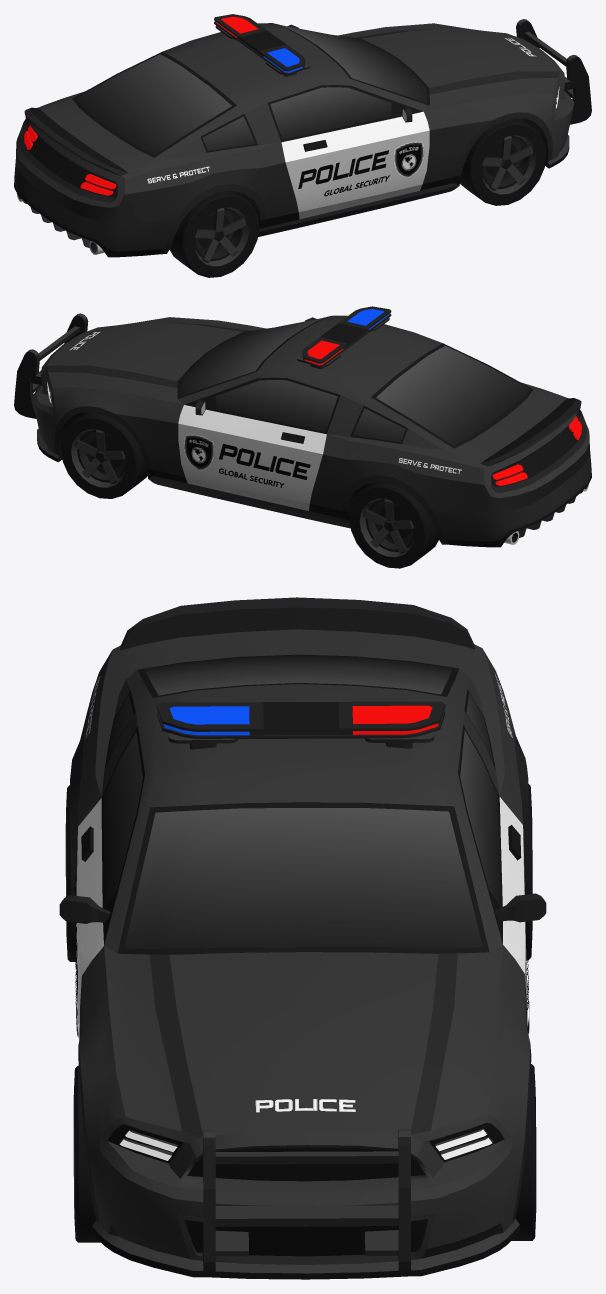
File: Emergency_022.glb
3 views of the same model, one above another, from view 1: azimuth 30°, elevation 25°; view 2: azimuth 150°, elevation 25°; view 3: azimuth 270°, elevation 25° (orthographic). The views are drawn at different scales.
Visible parts, largest first — view 1: Emergency_022, wheel_3_Emergency_022_Wheel_2R, wheel_1_Emergency_022_Wheel_1R; view 2: Emergency_022, wheel_2_Emergency_022_Wheel_2L, wheel_0_Emergency_022_Wheel_1L; view 3: Emergency_022, wheel_1_Emergency_022_Wheel_1R, wheel_0_Emergency_022_Wheel_1L, wheel_3_Emergency_022_Wheel_2R, wheel_2_Emergency_022_Wheel_2L.
Part boxes in pixels (x1,y1,x2,y2): Emergency_022: (14, 14, 591, 257); wheel_3_Emergency_022_Wheel_2R: (169, 190, 259, 277); wheel_1_Emergency_022_Wheel_1R: (460, 118, 546, 205); Emergency_022: (14, 306, 591, 547); wheel_2_Emergency_022_Wheel_2L: (349, 482, 438, 568); wheel_0_Emergency_022_Wheel_1L: (61, 412, 147, 498); Emergency_022: (59, 597, 546, 1279); wheel_1_Emergency_022_Wheel_1R: (73, 1065, 100, 1242); wheel_0_Emergency_022_Wheel_1L: (511, 1064, 536, 1240); wheel_3_Emergency_022_Wheel_2R: (65, 785, 76, 961); wheel_2_Emergency_022_Wheel_2L: (525, 784, 532, 959).
Size of the model in its own units: 5.07 by 1.55 by 2.04.
3 materials, 3 textured.
